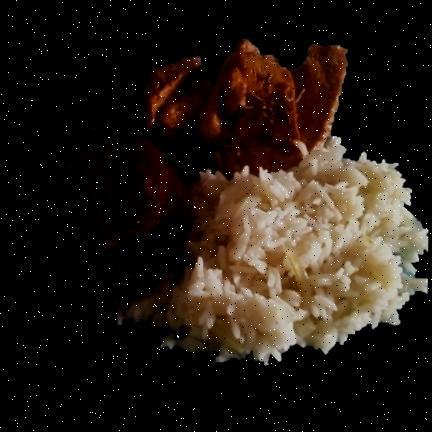beet: (5, 120, 190, 295)
chicken: (139, 37, 347, 185)
rice: (111, 136, 429, 363)
